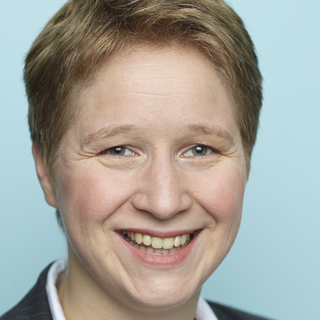eye: (94, 141, 144, 166), (174, 139, 228, 162)
